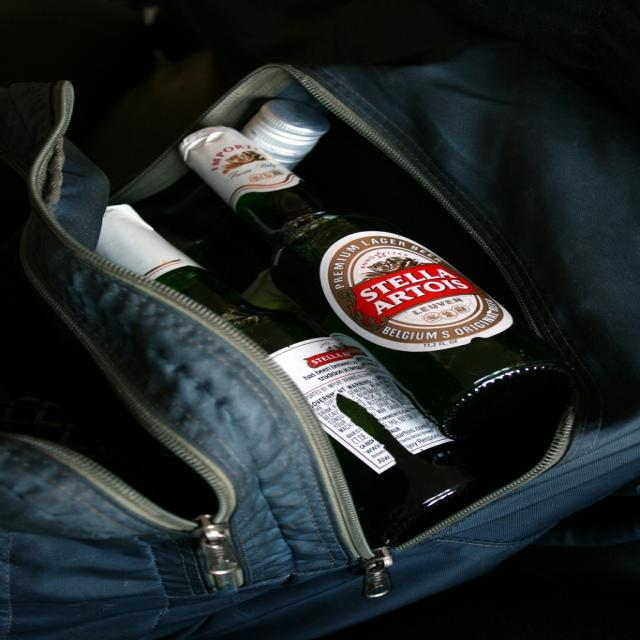stellaartois: (327, 236, 505, 345)
